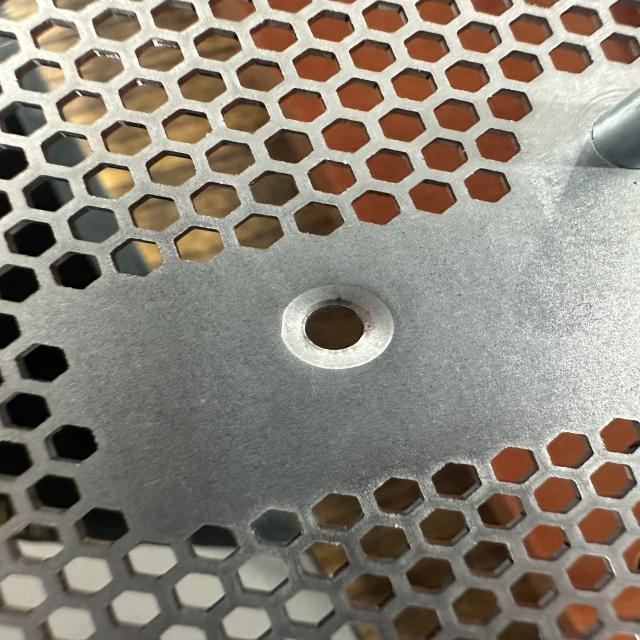Missing screw: (268, 278, 410, 378)
